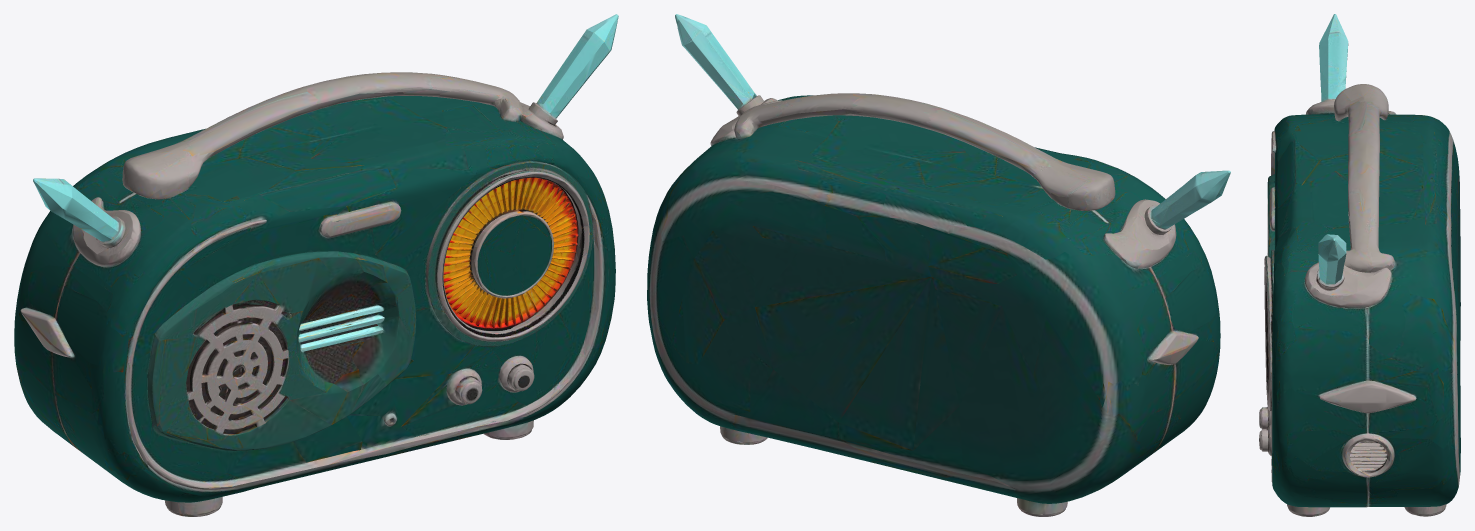
Rendered from alien-radio.glb.
3 views of the same model, side by side, from view 1: azimuth 30°, elevation 25°; view 2: azimuth 150°, elevation 25°; view 3: azimuth 270°, elevation 25° (orthographic). The views are drawn at different scales.
Size of the model in its own units: 1.89 by 1.16 by 0.6584.
1 material, 1 textured.
